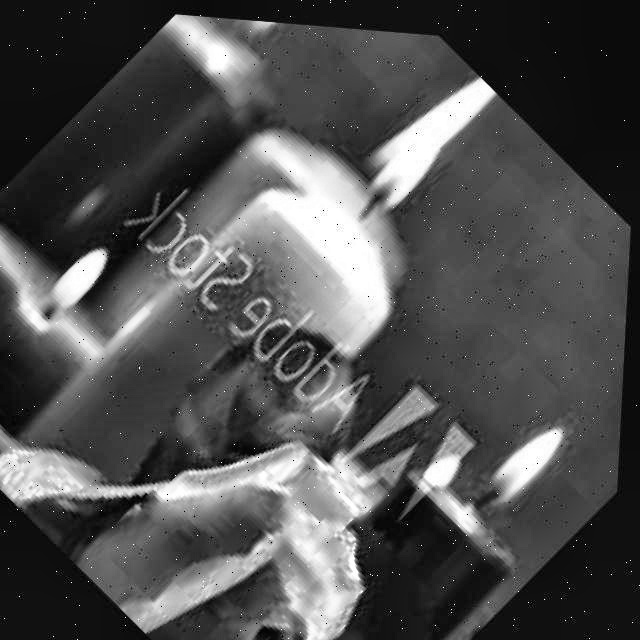Fire: (343, 42, 513, 225), (471, 386, 595, 520), (39, 227, 126, 321), (227, 15, 355, 51)
